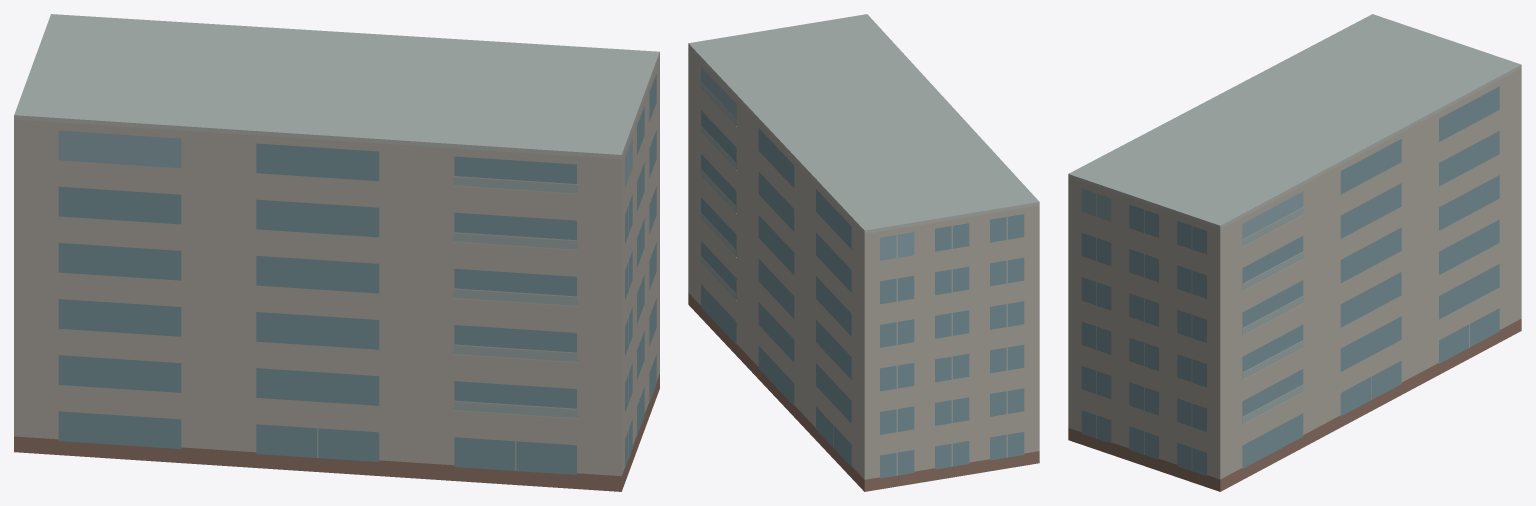
The model's file is survey-upis-32953839.glb.
3 renders of one model, left to right at view 1: azimuth 30°, elevation 25°; view 2: azimuth 150°, elevation 25°; view 3: azimuth 270°, elevation 25°, orthographic. The views are drawn at different scales.
Visible parts, largest first — view 1: survey-upis-32953839.tmp; view 2: survey-upis-32953839.tmp; view 3: survey-upis-32953839.tmp.
Part boxes in pixels (x1,y1,x2,y2): survey-upis-32953839.tmp: [14, 14, 659, 491]; survey-upis-32953839.tmp: [688, 14, 1039, 491]; survey-upis-32953839.tmp: [1068, 14, 1521, 491].
Size of the model in its own units: 32.01 by 18.76 by 28.98.
